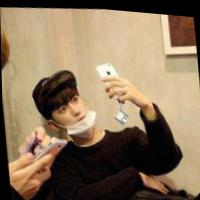WRONG: (53, 89, 94, 134)
